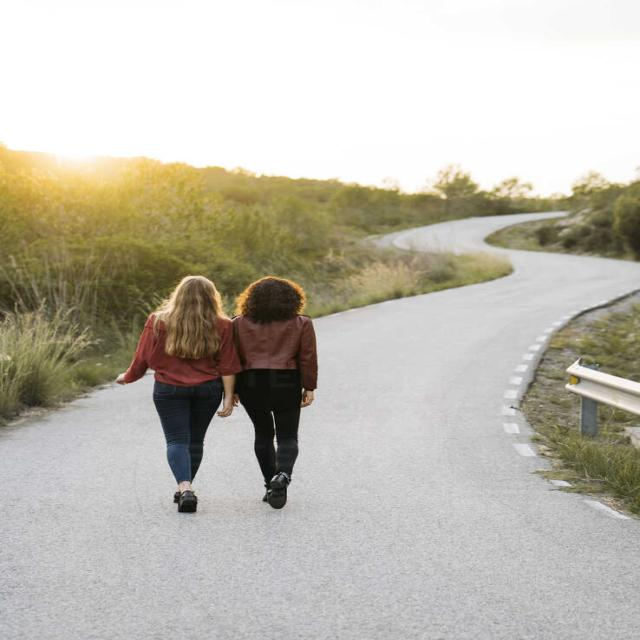Person: (120, 275, 238, 515), (235, 277, 321, 508)
